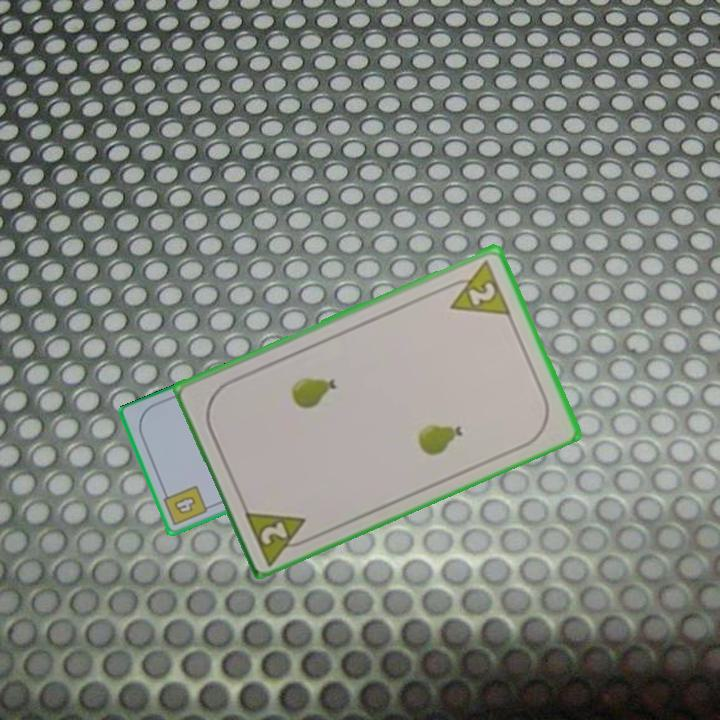2p: (240, 504, 317, 566), (439, 256, 514, 318)
4b: (159, 482, 210, 529)
